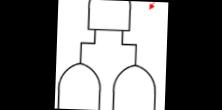and: (108, 61, 159, 110), (55, 58, 103, 110), (83, 0, 132, 34)
